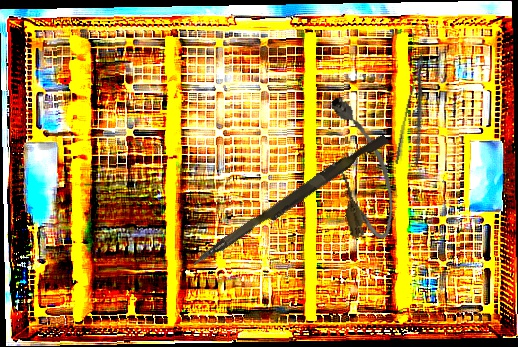Cannula: (321, 88, 402, 246)
Dressing Forceps: (392, 54, 443, 169)
Pusher: (190, 128, 390, 275)
